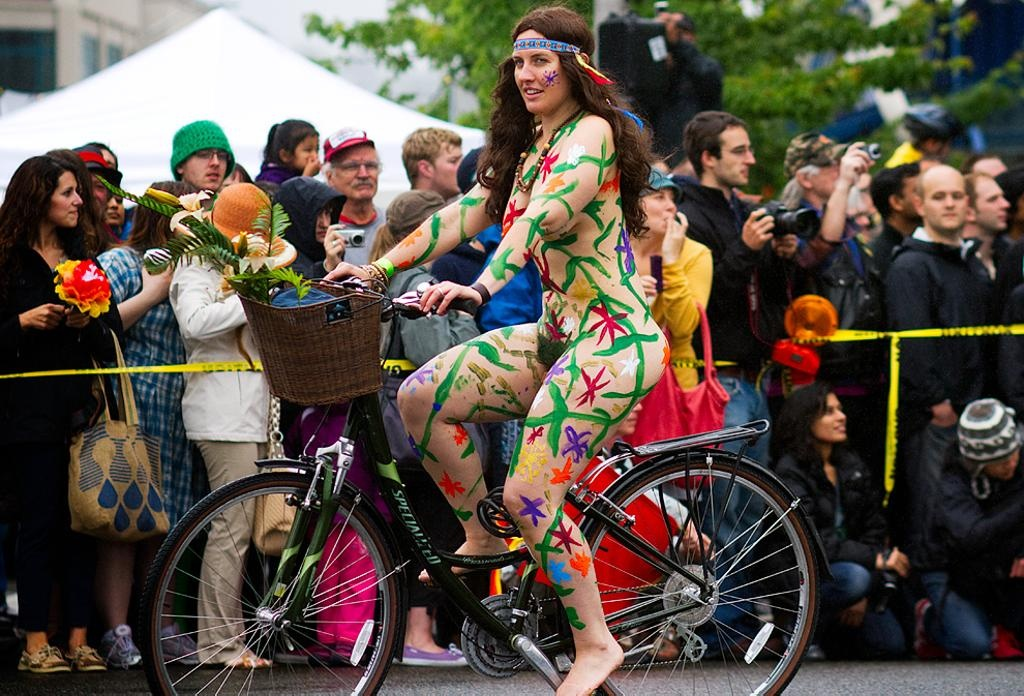human_face: (512, 37, 574, 113), (40, 172, 82, 226), (334, 144, 376, 198), (716, 129, 754, 185), (186, 138, 226, 190), (636, 182, 676, 234), (924, 178, 964, 230), (431, 140, 467, 194), (70, 168, 106, 218), (808, 398, 846, 441), (977, 180, 1009, 230), (810, 152, 846, 194), (301, 197, 331, 243), (986, 442, 1018, 480), (86, 149, 114, 189), (290, 131, 318, 171), (902, 177, 926, 219), (98, 187, 124, 225), (664, 15, 684, 43)
